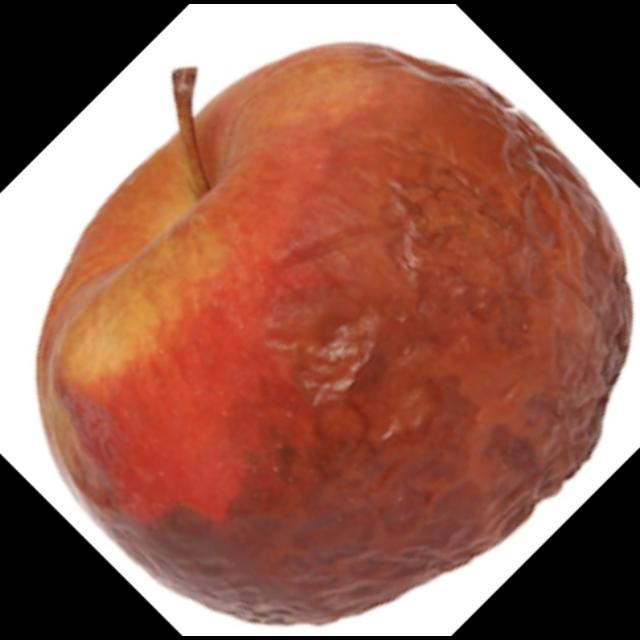Apel Tidak Segar: (16, 33, 634, 634)
